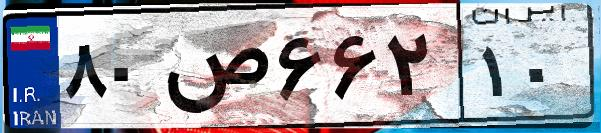0: (525, 38, 570, 115), (110, 28, 158, 98)
1: (475, 38, 525, 113)
2: (385, 28, 445, 110)
6: (270, 28, 330, 110), (330, 28, 385, 110)
8: (57, 26, 110, 100)
ص: (158, 20, 270, 120)
